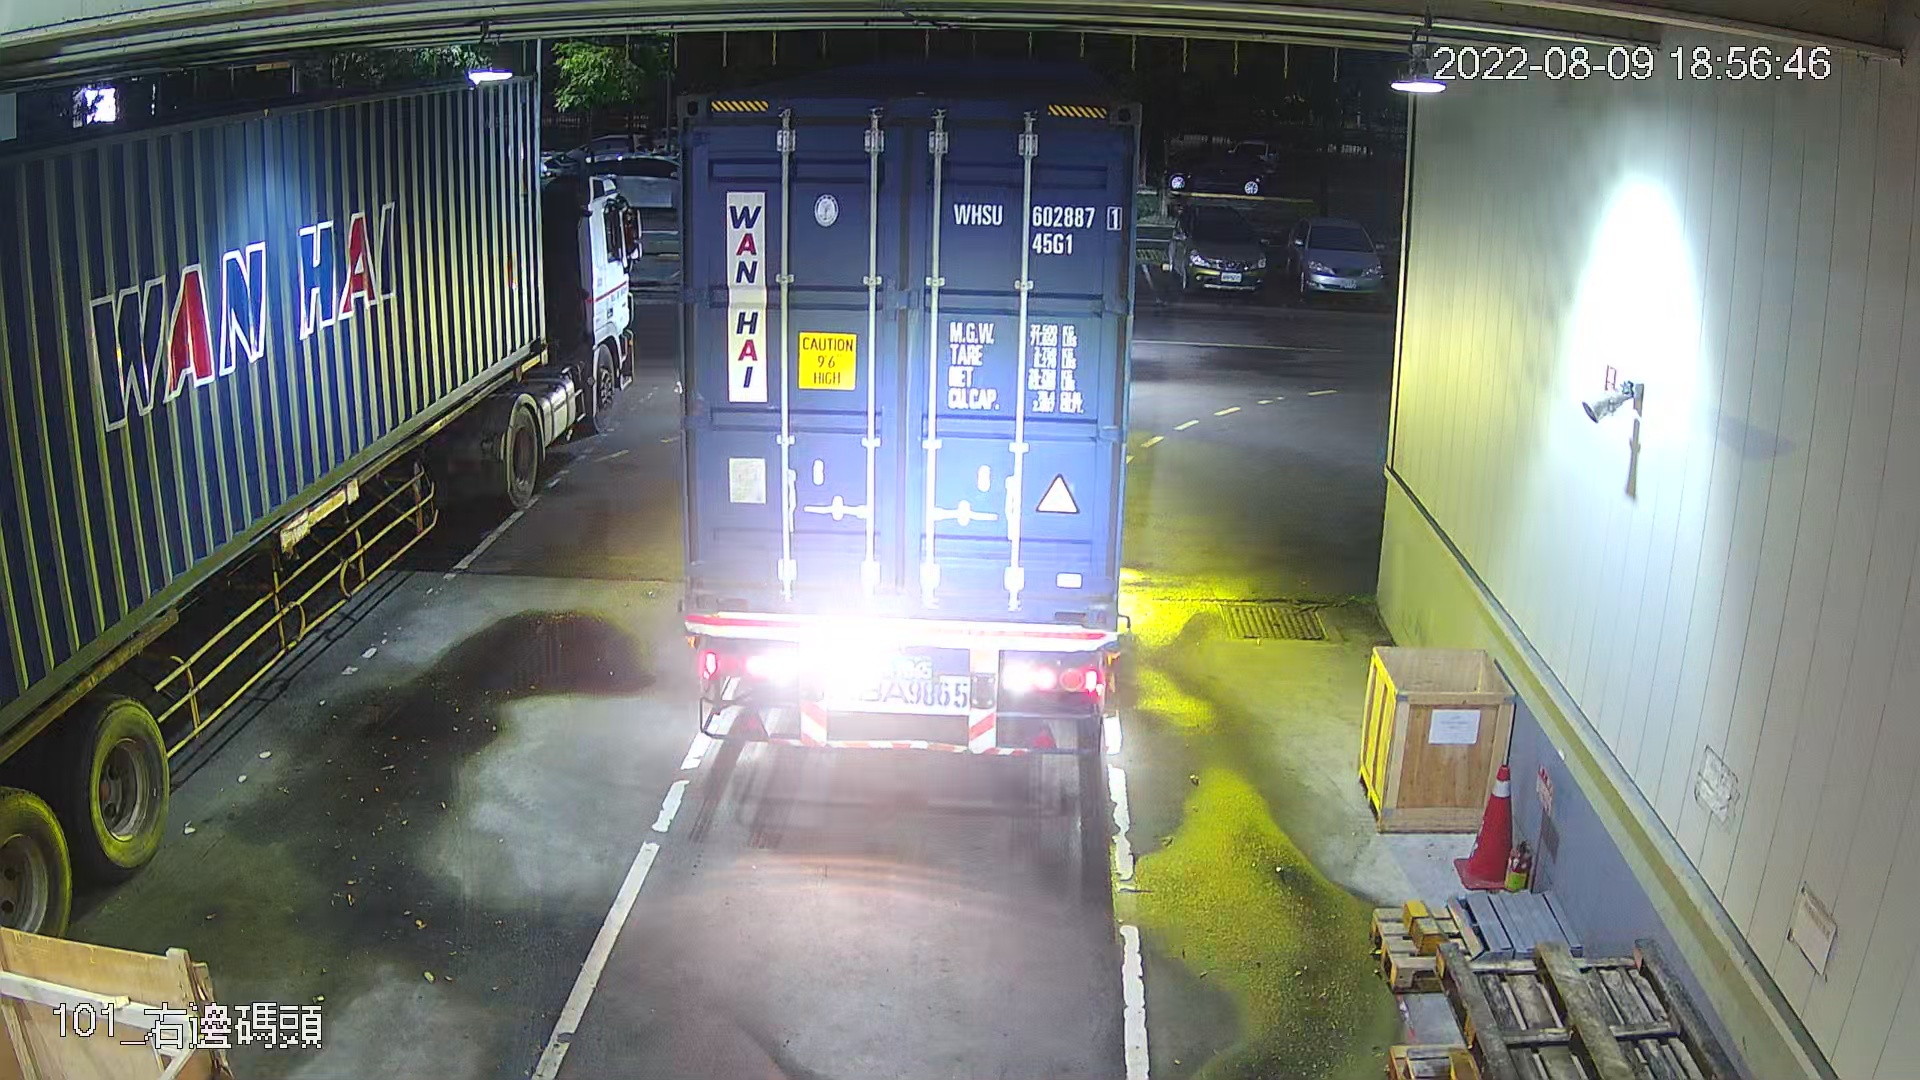container: (947, 195, 1127, 261)
